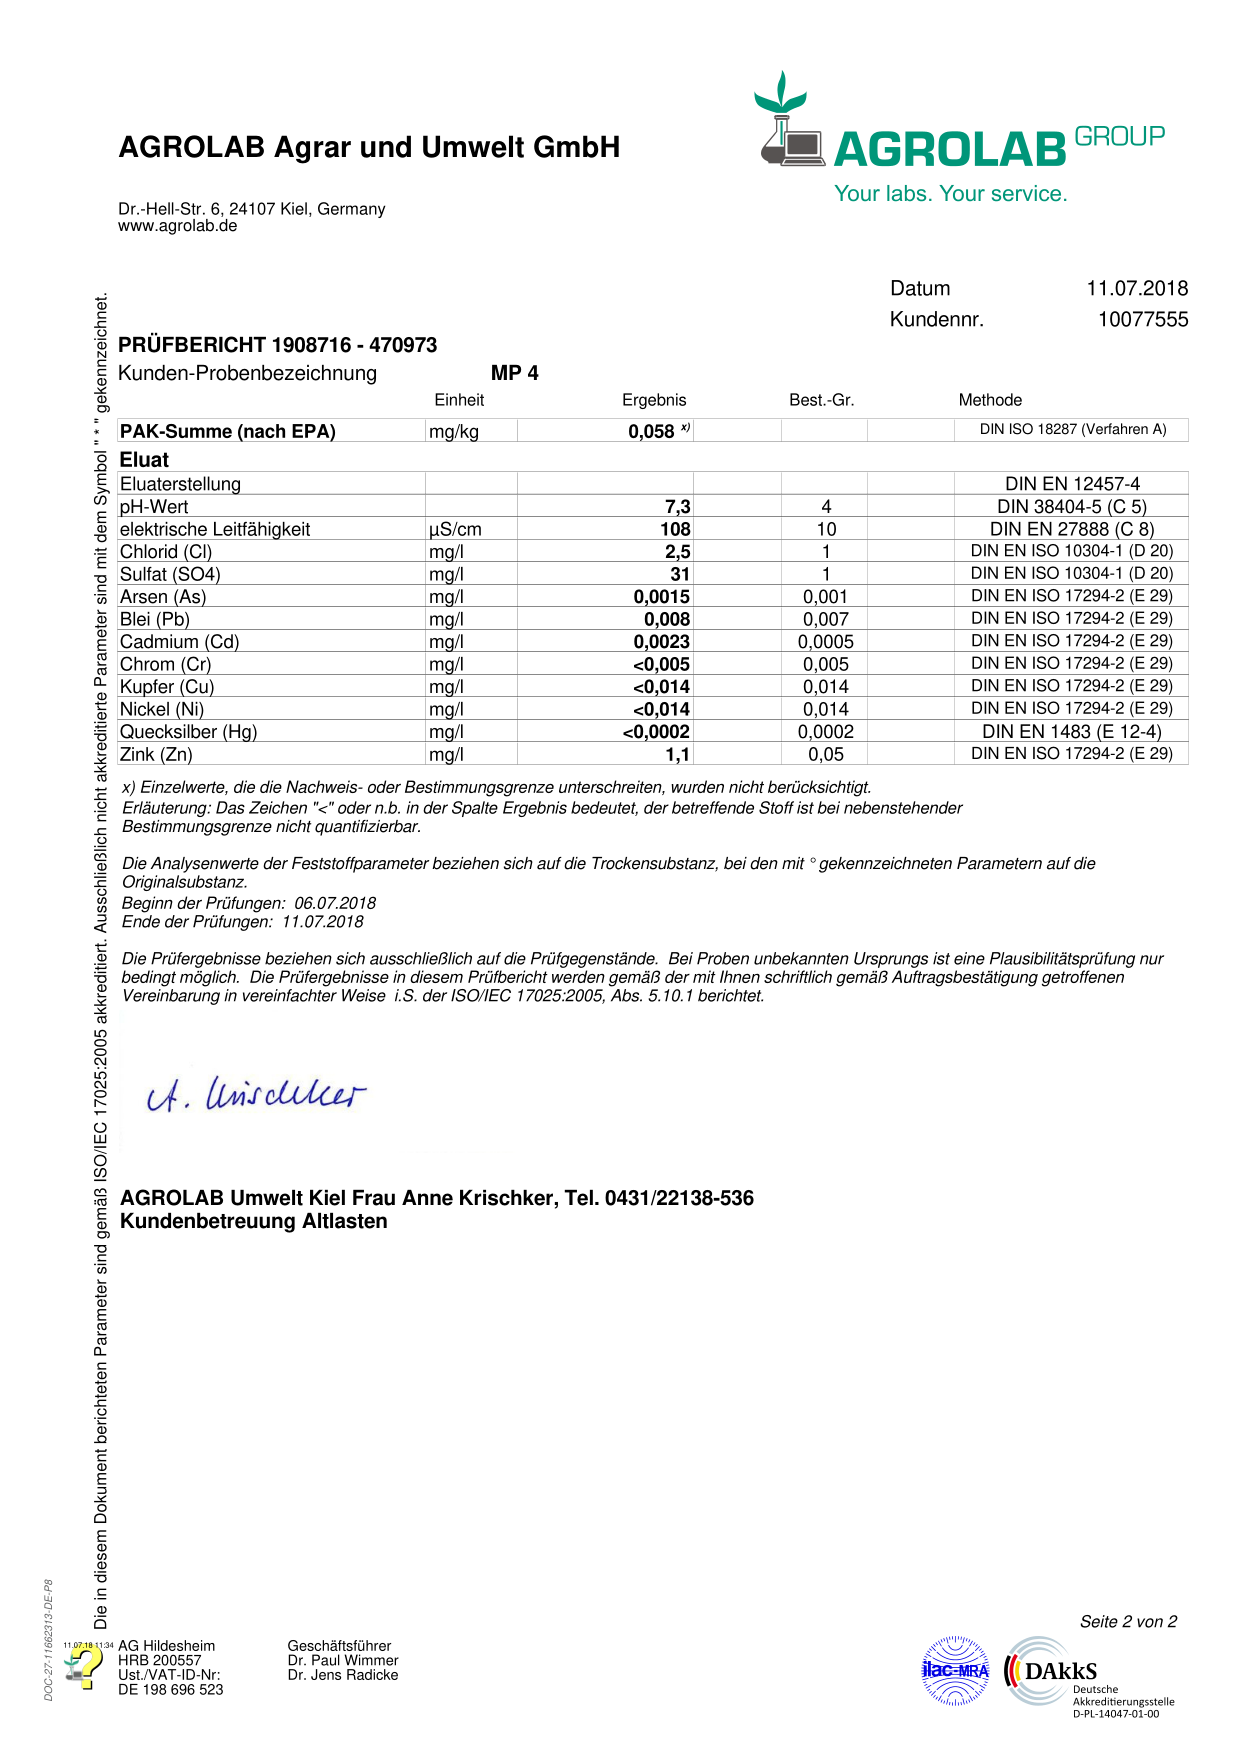table: (118, 413, 1196, 774)
